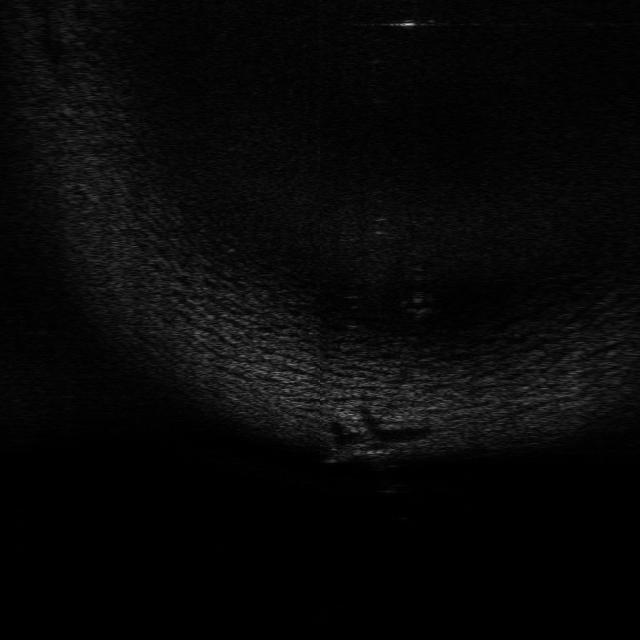plane: (324, 436, 394, 464)
